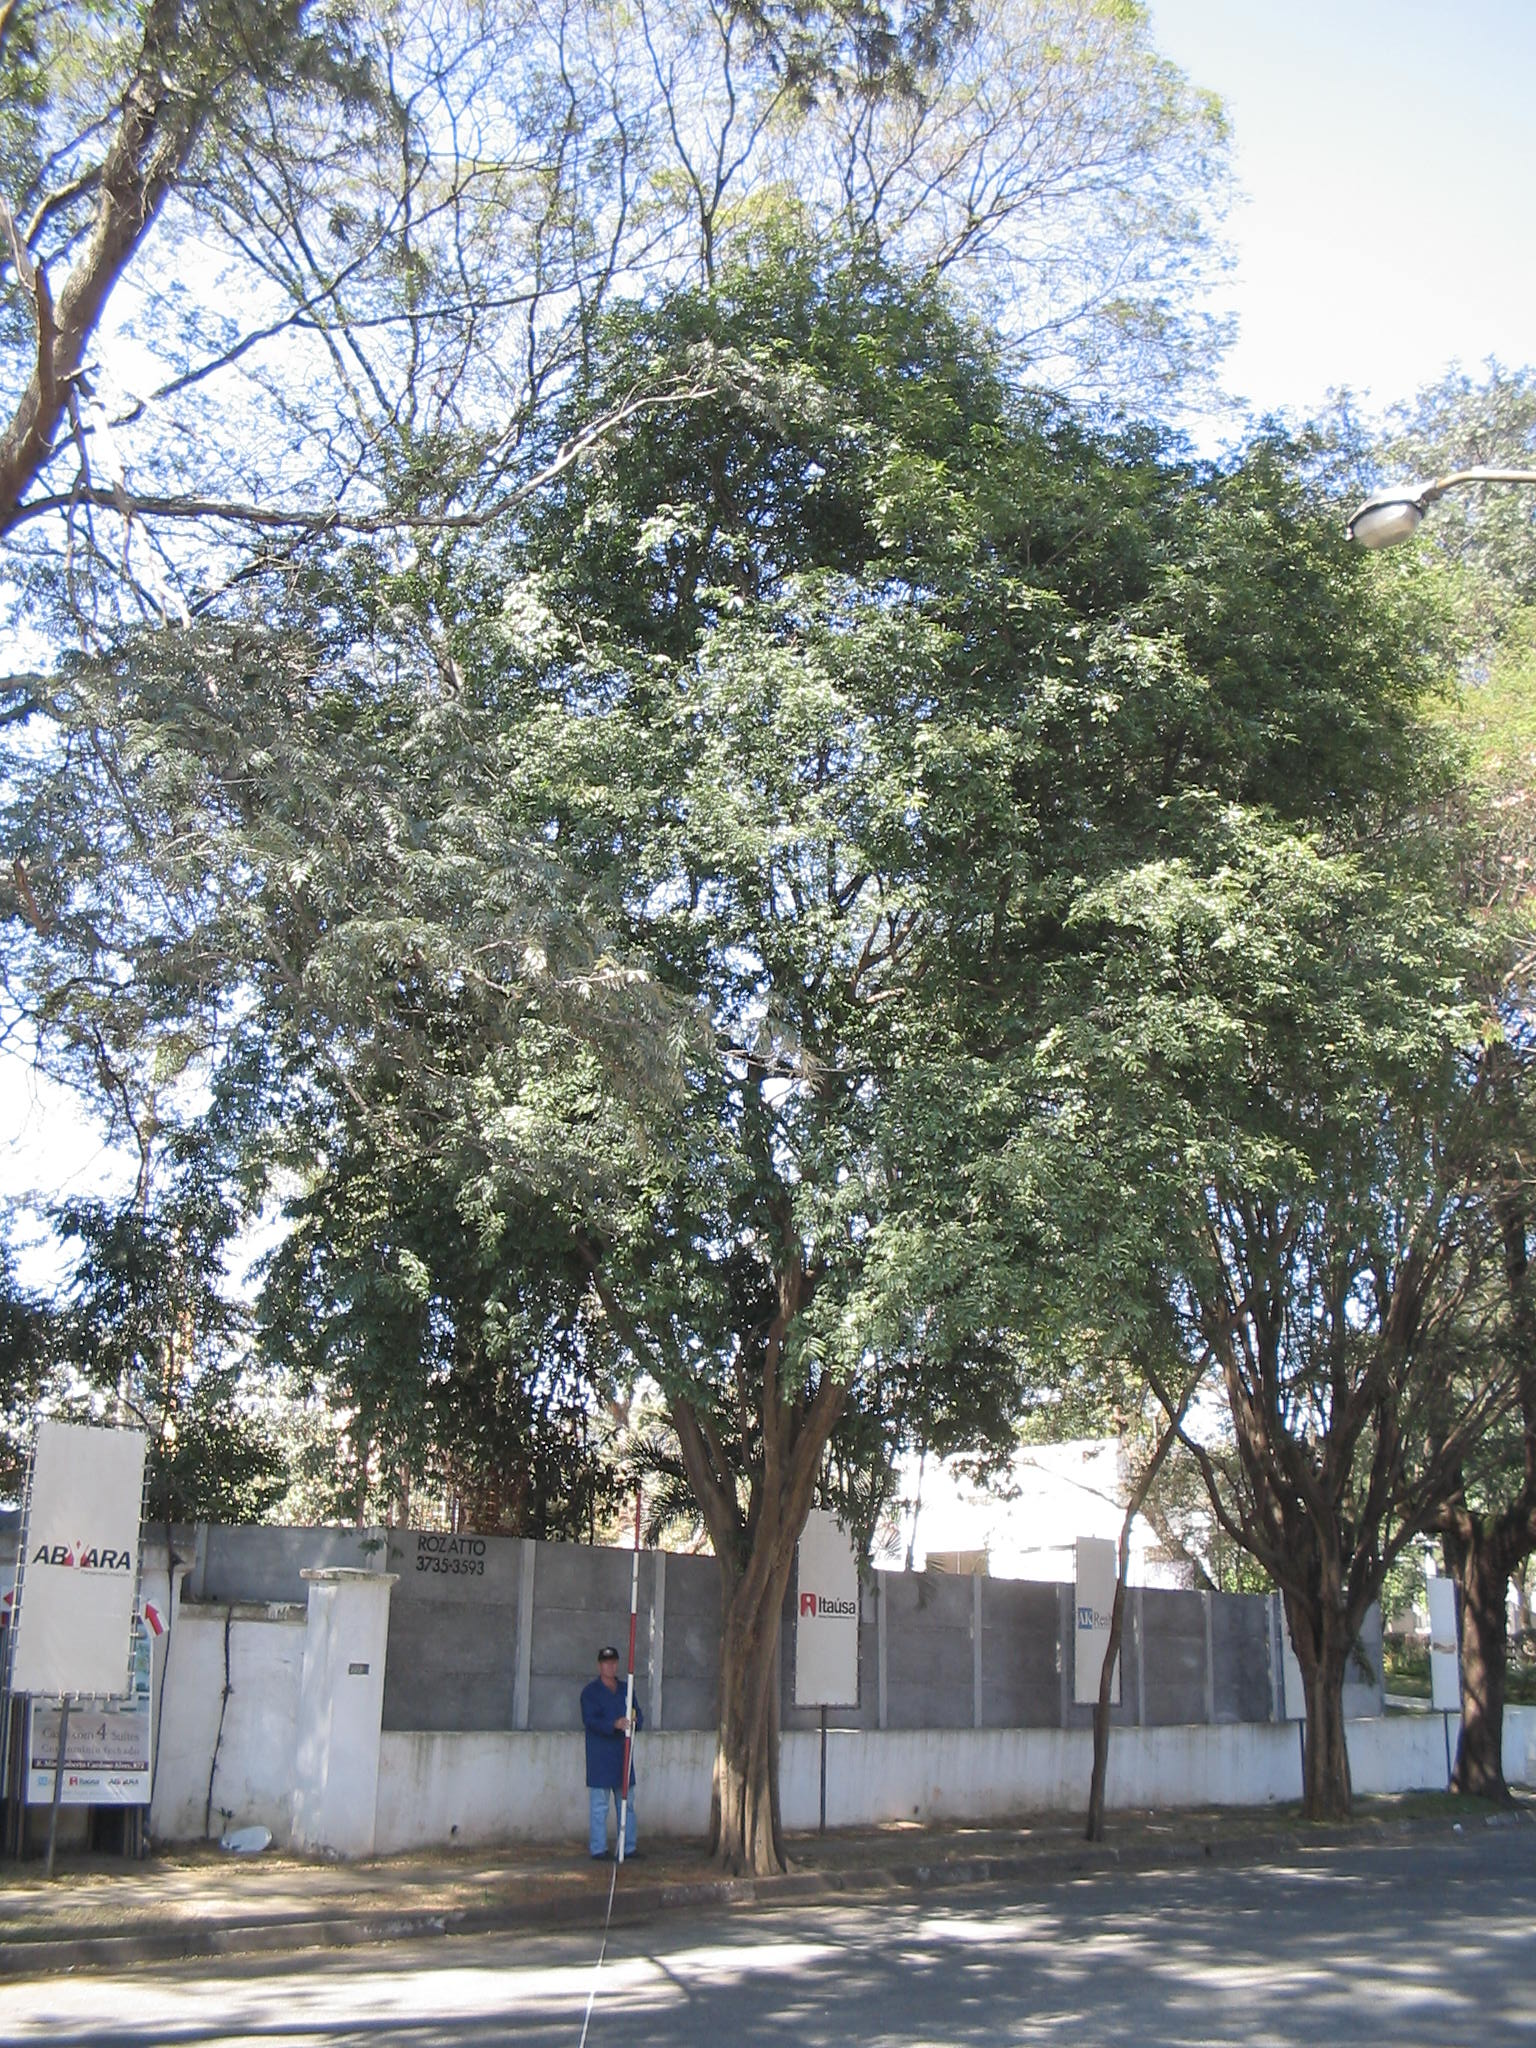crown: (11, 176, 1483, 1403)
stem: (678, 1561, 836, 1879), (1430, 1540, 1528, 1809), (1278, 1650, 1379, 1821)
stick: (594, 1487, 671, 1858)
tree: (6, 168, 1492, 1882), (1129, 1134, 1457, 1824)
